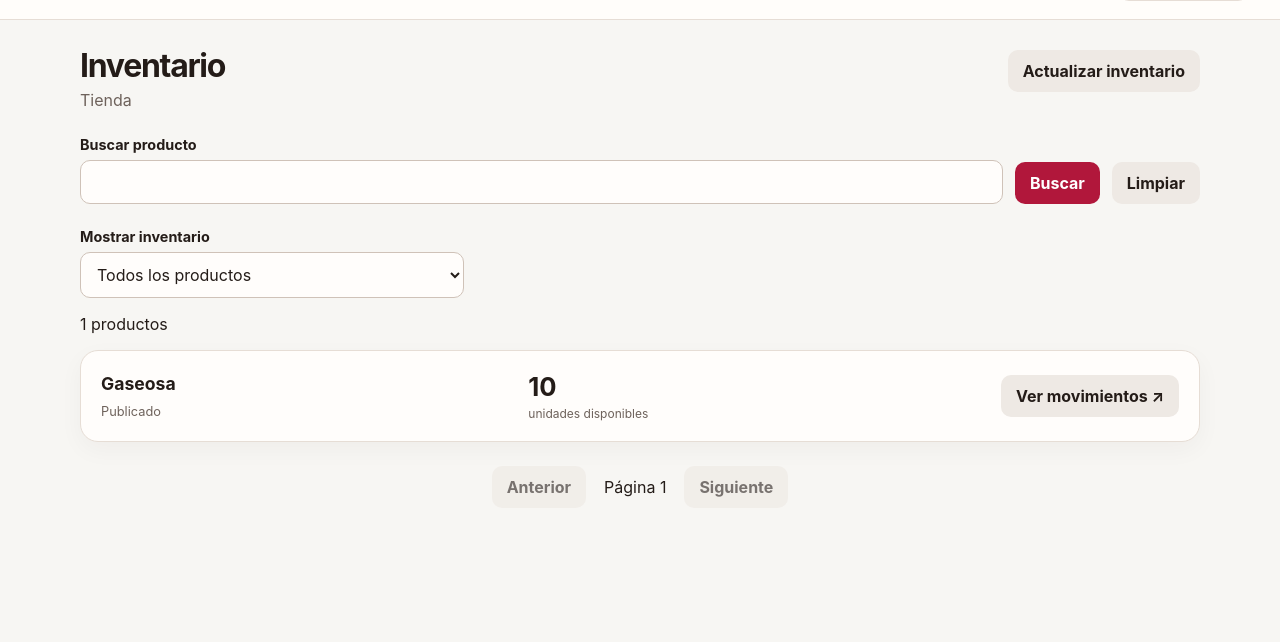
Test: registra cantidad y motivo con una clave de reintento
This screenshot has width=1280, height=642.
Click the button with aria-label "Ver inventario de Gaseosa": (1090, 396) [1001,375,1179,417]
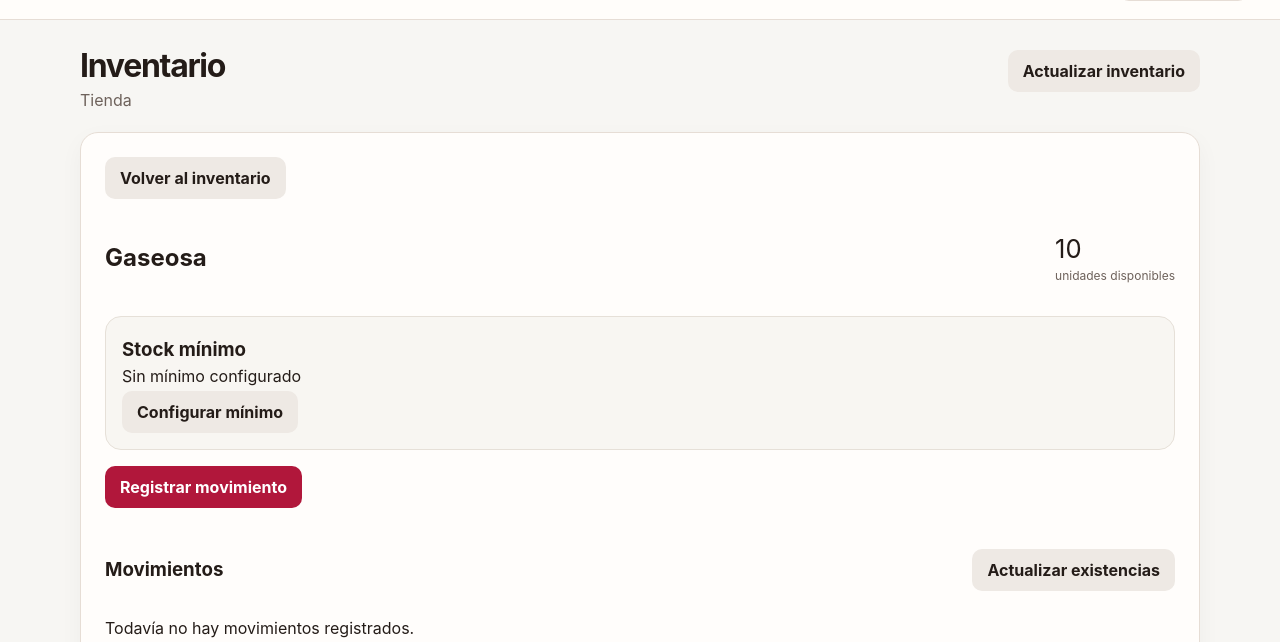
Click the button "Registrar movimiento": (204, 487) [105,466,302,508]
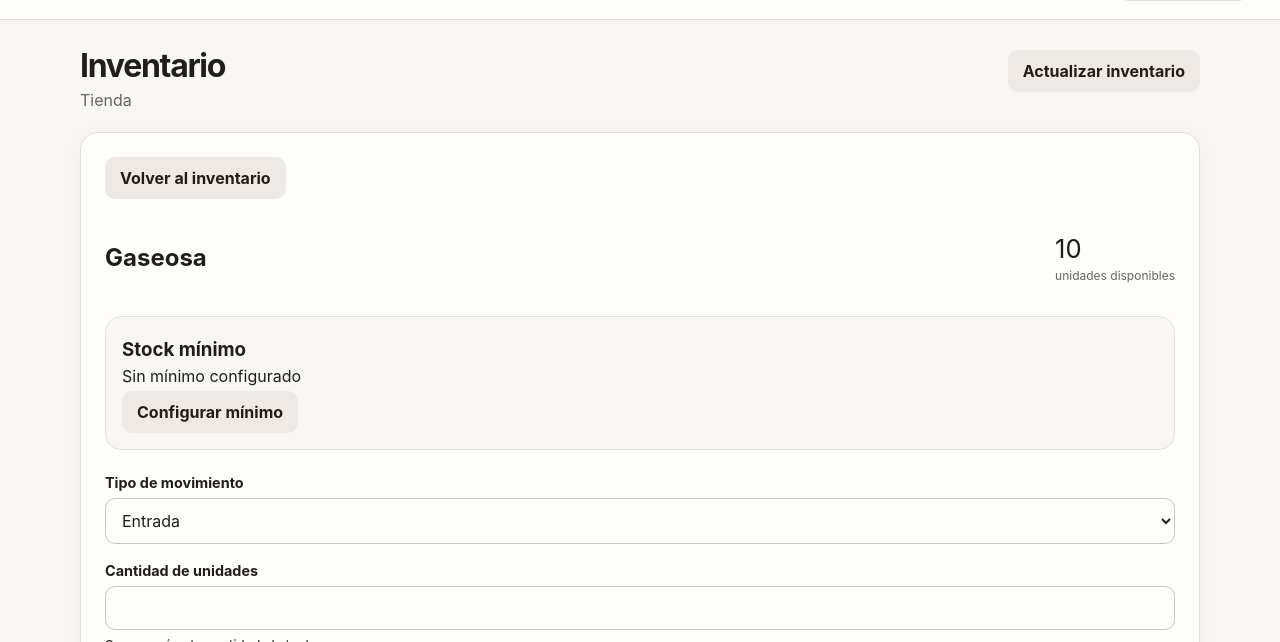
In the field labelled "Cantidad de unidades": (640, 608) [105,586,1175,630], type "2"
(page scrolled)
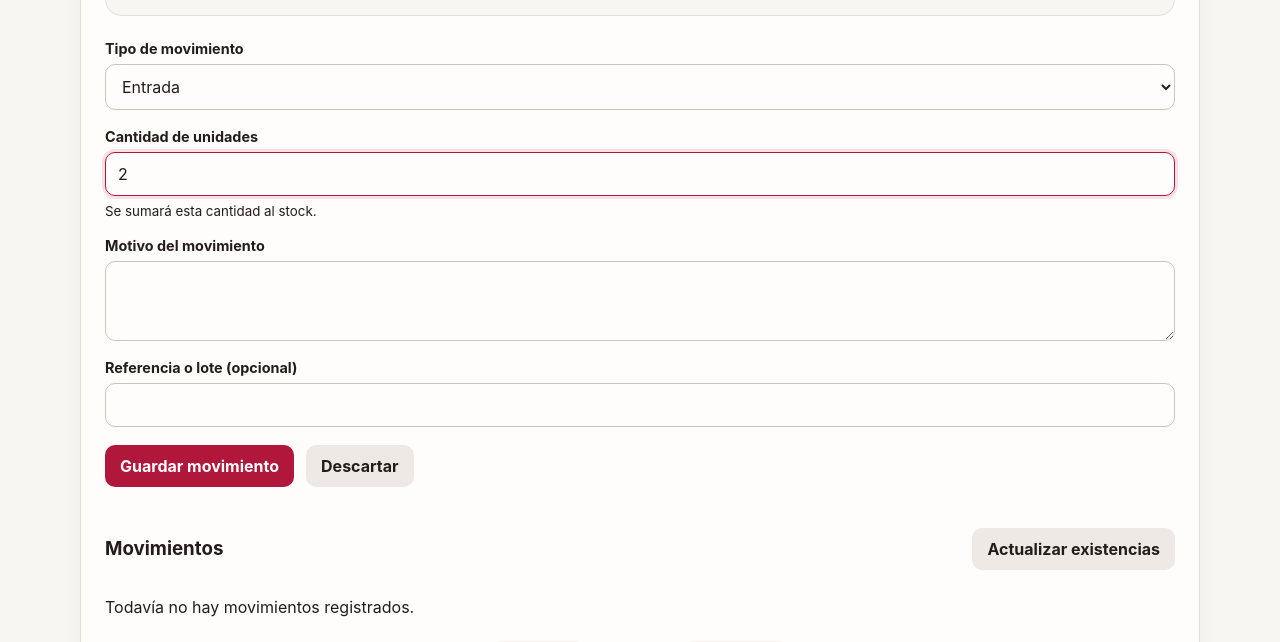
In the text box labelled "Motivo del movimiento": (640, 301) [105,261,1175,341], type "Reposición"
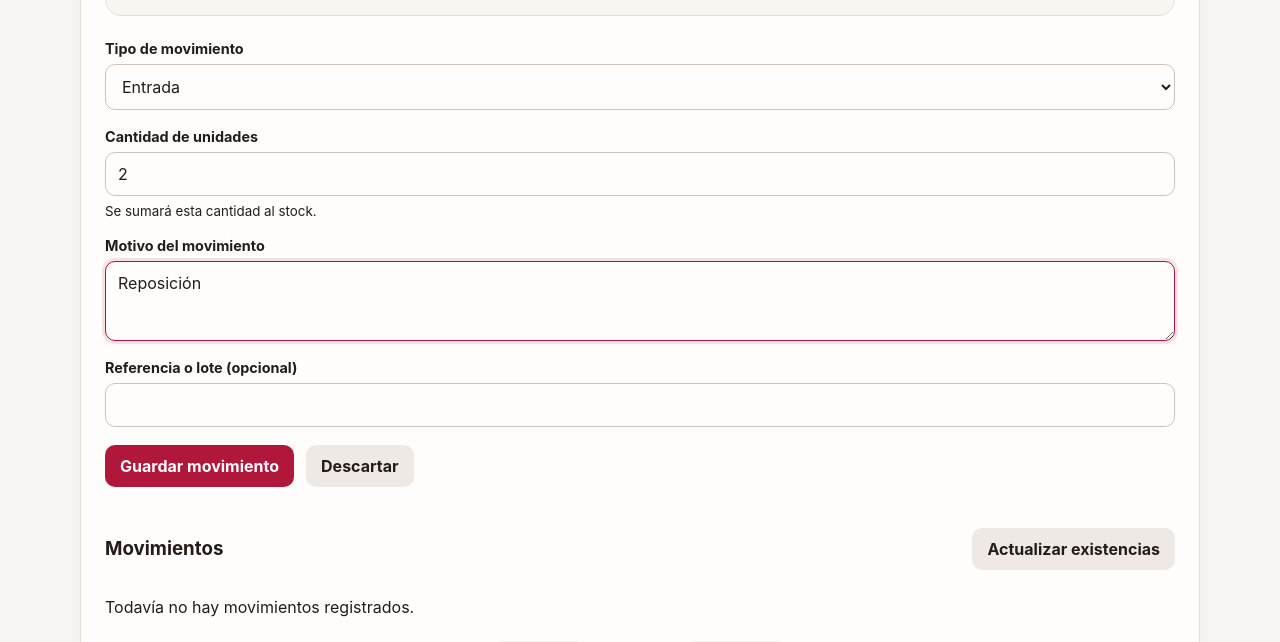
Click the button "Guardar movimiento": (200, 466) [105,445,294,487]
(page scrolled)
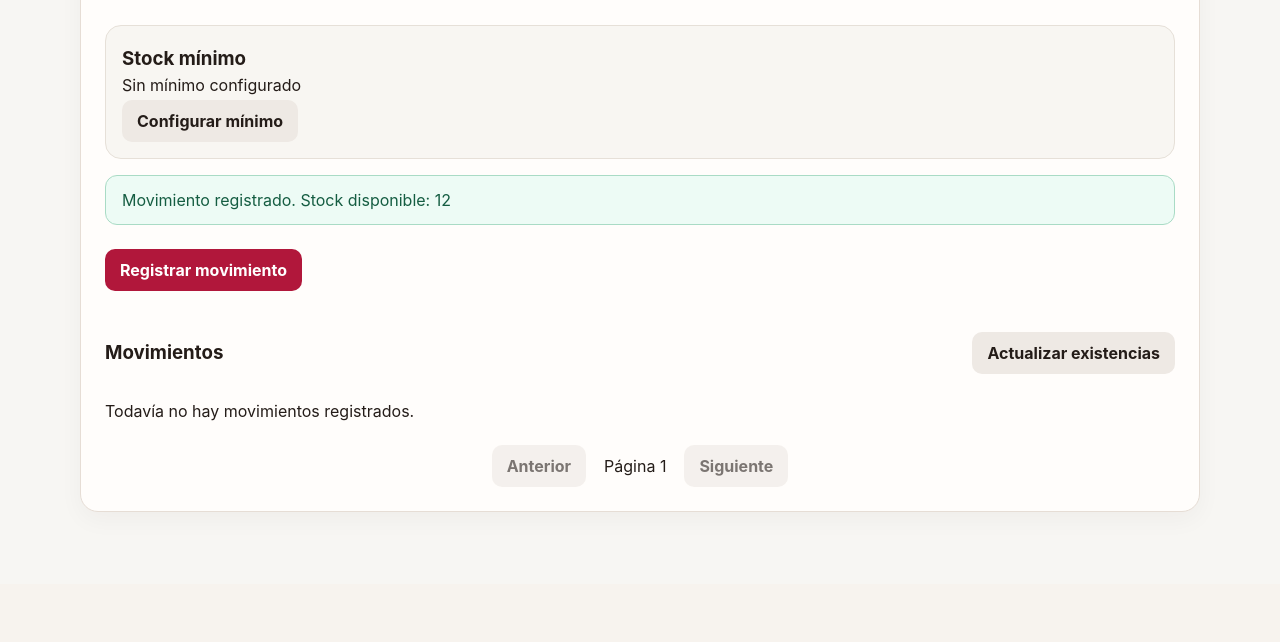
Expected: the text "Movimiento registrado. Stock disponible: 12" is shown, [105,175,1175,225]
